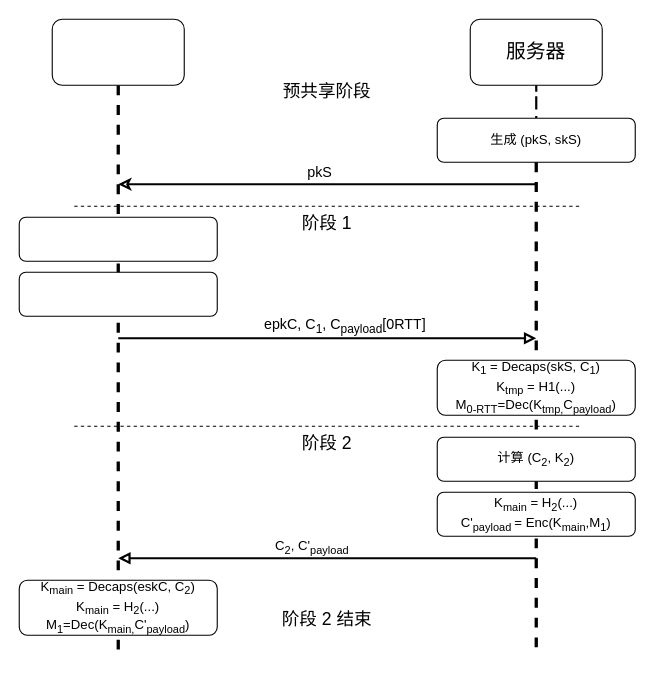
Image size: 655x679. Some labels were removed from this diagram. The shapes that lost their labels are listed below. From the top down, each one's box as (x1, y1, x2, y2) in pixels, then its label:
(51, 18, 184, 85): 客户端
(18, 216, 217, 261): 生成 (epkC, eskC) 计算 (C 1 , K 1 )
(18, 271, 217, 316): K tmp = H 1 (...) C payload = Enc(K tmp ,M 0-RTT )
